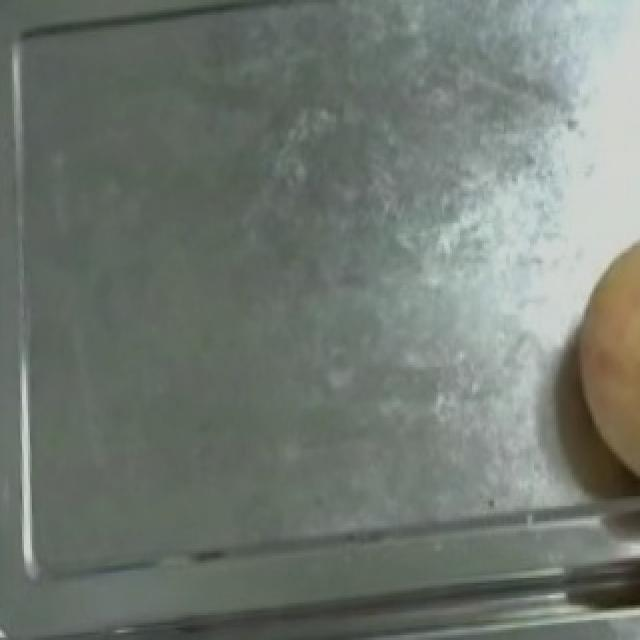Fruit: (564, 218, 638, 504)
